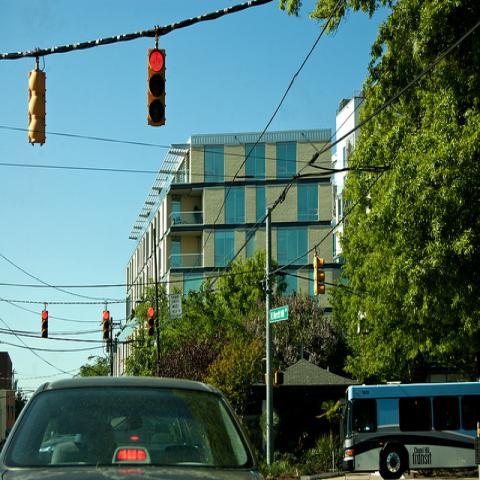bus: (338, 380, 480, 479)
car: (0, 374, 266, 474)
